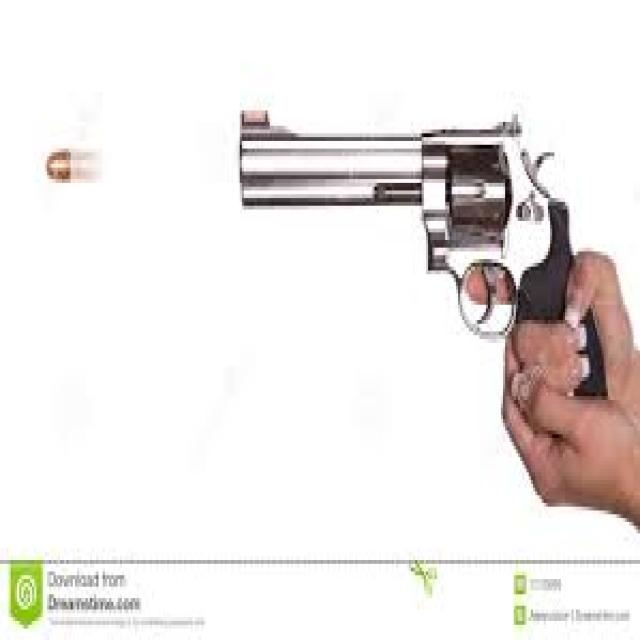gun: (21, 73, 612, 421)
